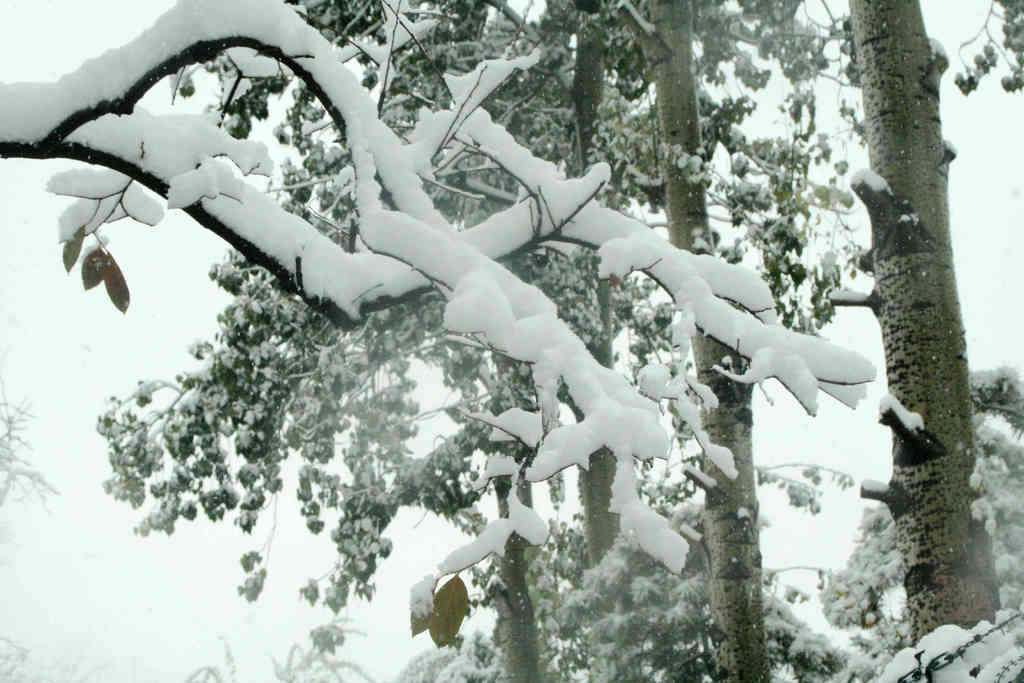Tree: (94, 0, 974, 681), (0, 0, 876, 625), (824, 0, 1007, 647), (613, 0, 768, 682)
